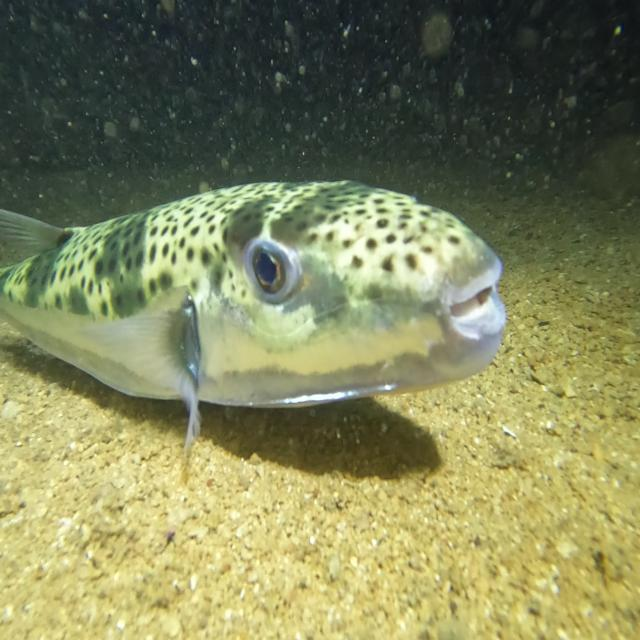Balon Baligi: (0, 181, 505, 471)
